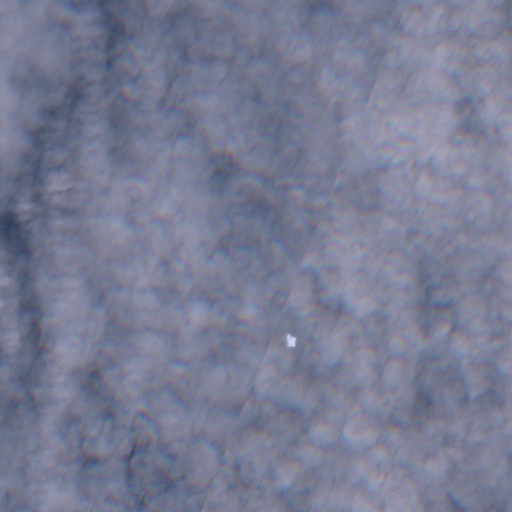Iceberg: (287, 335, 295, 346)
